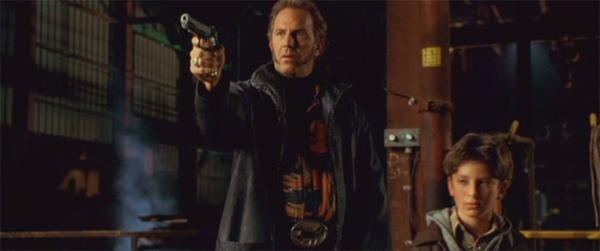Gun: (180, 15, 222, 55)
